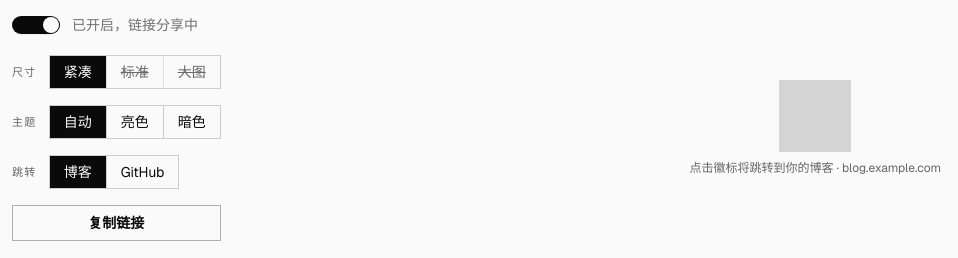
Test case: BadgeSection › caps the preview link with the chosen target and states it in the caption
The image size is (958, 258).
expect the text with test id "badge-caption" reads "点击徽标将跳转到你的博客 · blog.example.com": met, box left=690, top=160, right=941, bottom=176
Step 1. Click the button "GitHub" → (142, 172), box left=106, top=156, right=178, bottom=188
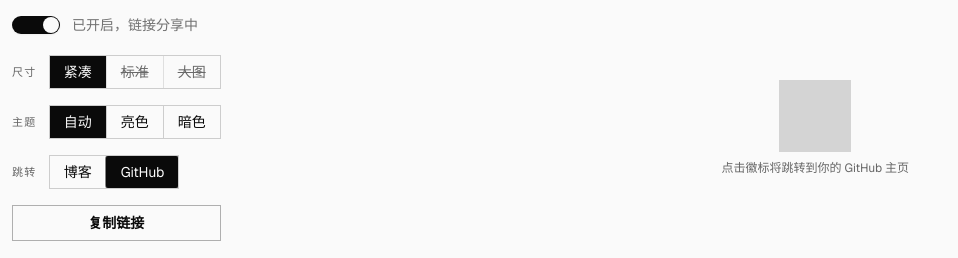
expect the text with test id "badge-caption" reads "点击徽标将跳转到你的 GitHub 主页": met, box left=722, top=160, right=909, bottom=176
